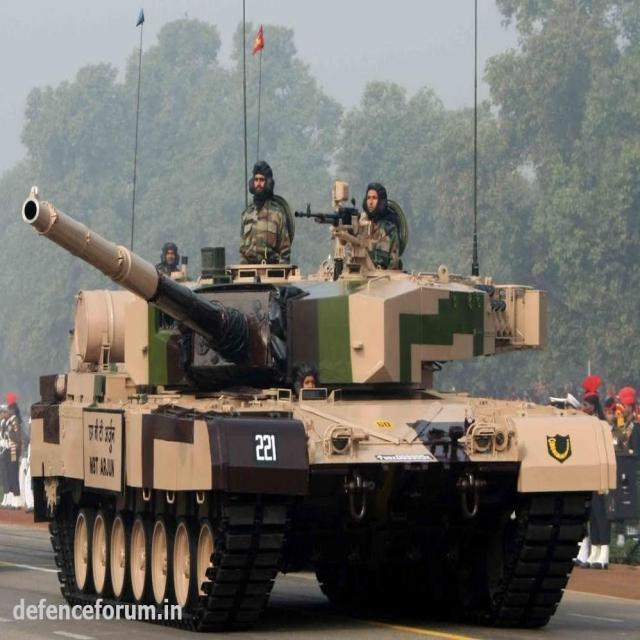Tanks: (18, 180, 610, 626)
